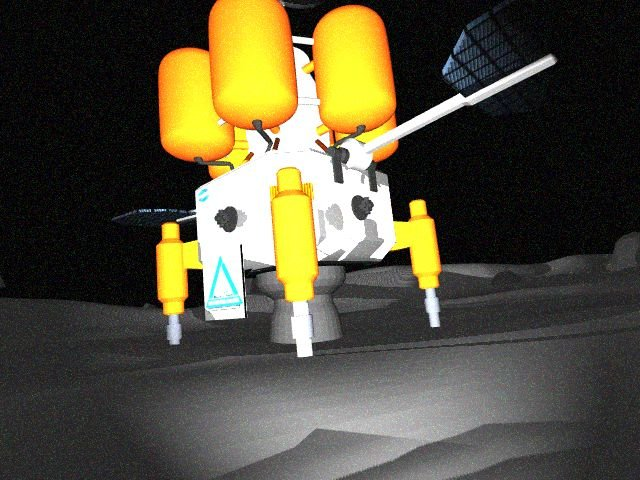basemarker: (206, 254, 245, 311)
